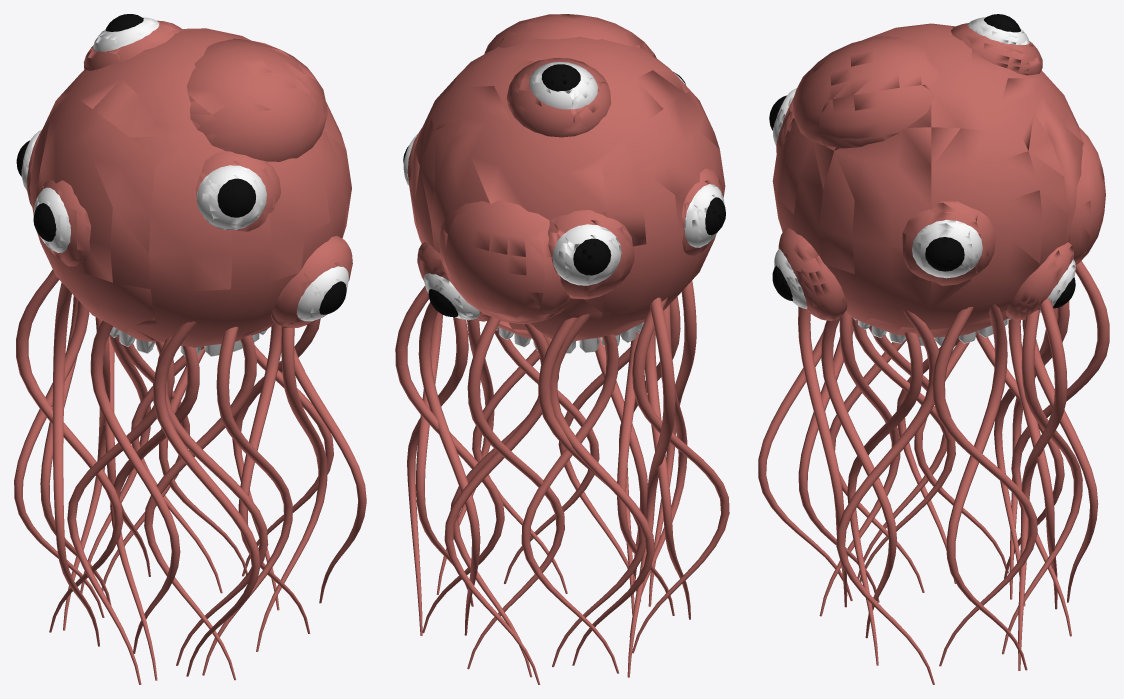
File: consumer.glb
The picture shows the model from 3 angles, left to right: view 1: azimuth 30°, elevation 25°; view 2: azimuth 150°, elevation 25°; view 3: azimuth 270°, elevation 25°; orthographic projection. The views are drawn at different scales.
Visible parts, largest first — view 1: Consumer; view 2: Consumer; view 3: Consumer.
Boxes of the visible parts, x1,y1,x2,y2 form: Consumer: [14, 14, 366, 684]; Consumer: [395, 14, 729, 684]; Consumer: [758, 14, 1109, 684].
Size of the model in its own units: 3.41 by 6.26 by 3.37.
